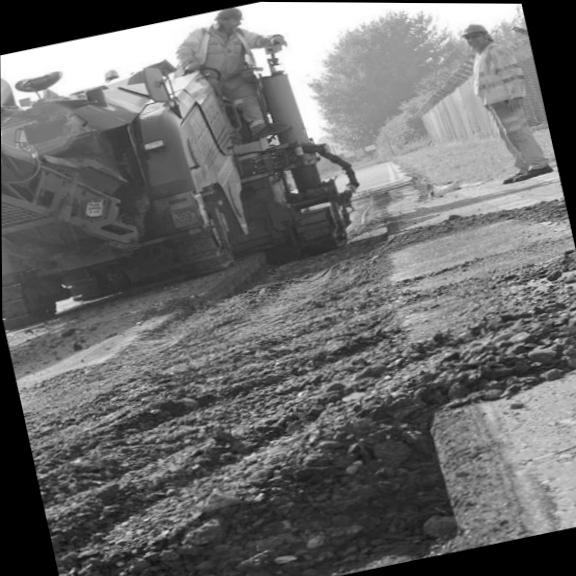safety_vest: (177, 10, 264, 88), (465, 37, 531, 110)
